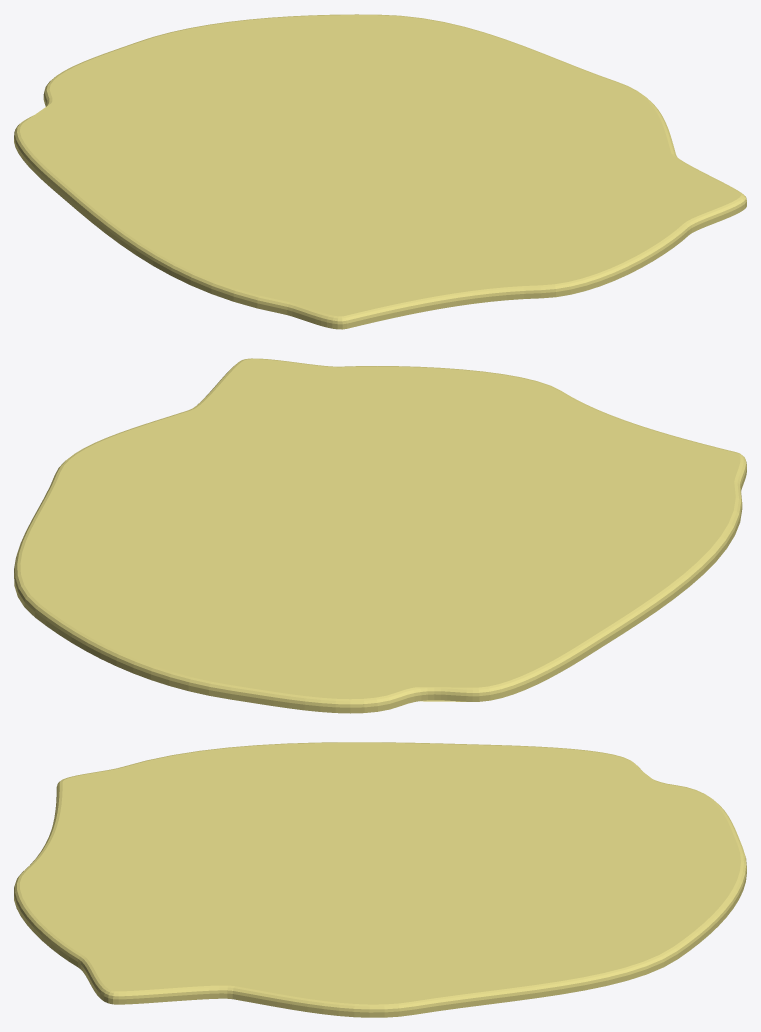
Rendered from luber jack base.fbx.
3 renders of one model, top to bottom at view 1: azimuth 30°, elevation 25°; view 2: azimuth 150°, elevation 25°; view 3: azimuth 270°, elevation 25°, orthographic. The views are drawn at different scales.
Visible parts, largest first — view 1: BezierCurve.003; view 2: BezierCurve.003; view 3: BezierCurve.003.
Part boxes in pixels (x1,y1,x2,y2): BezierCurve.003: (14, 14, 746, 329); BezierCurve.003: (14, 358, 746, 713); BezierCurve.003: (14, 742, 746, 1017).
Size of the model in its own units: 19323 by 362 by 22425.
